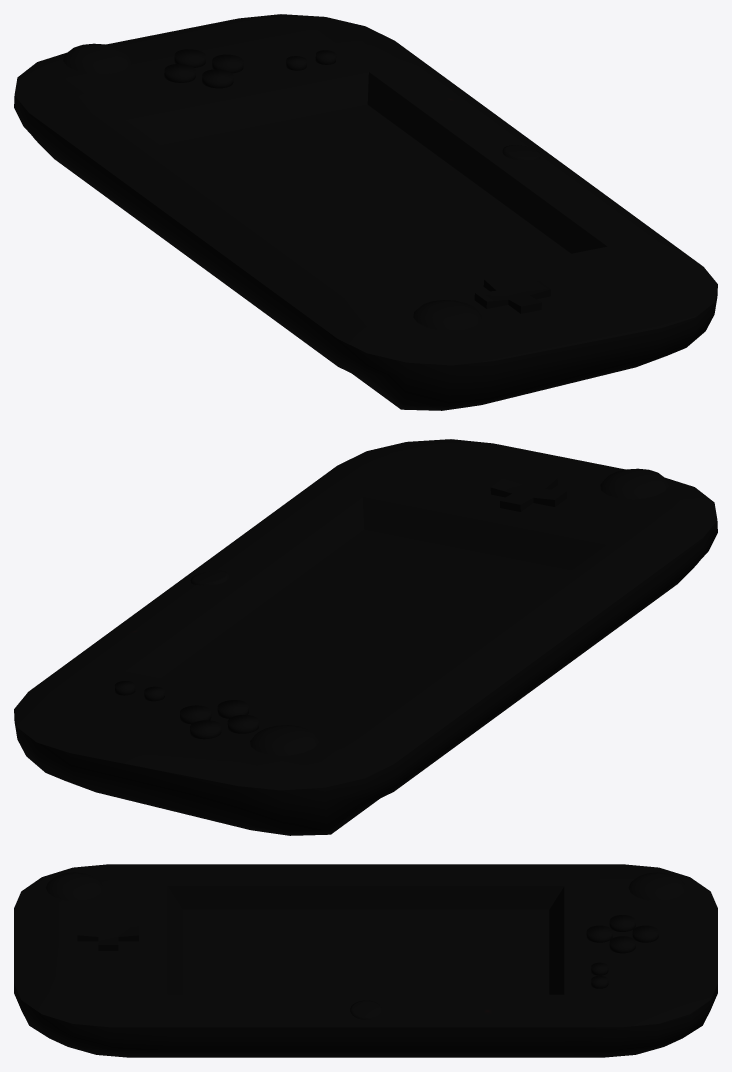
Rendered from wiiu.fbx.
The picture shows the model from 3 angles, top to bottom: view 1: azimuth 30°, elevation 25°; view 2: azimuth 150°, elevation 25°; view 3: azimuth 270°, elevation 25°; orthographic projection. The views are drawn at different scales.
Parts seen in each view (by area): view 1: wiiu; view 2: wiiu; view 3: wiiu.
Boxes of the visible parts, x1=… form: wiiu: x1=14, y1=14, x2=717, y2=410; wiiu: x1=14, y1=439, x2=717, y2=835; wiiu: x1=14, y1=864, x2=717, y2=1057.
Bounding box in the file's own units: 53.65 × 107 × 12.15.
Materials: 1 (1 with a texture image).
